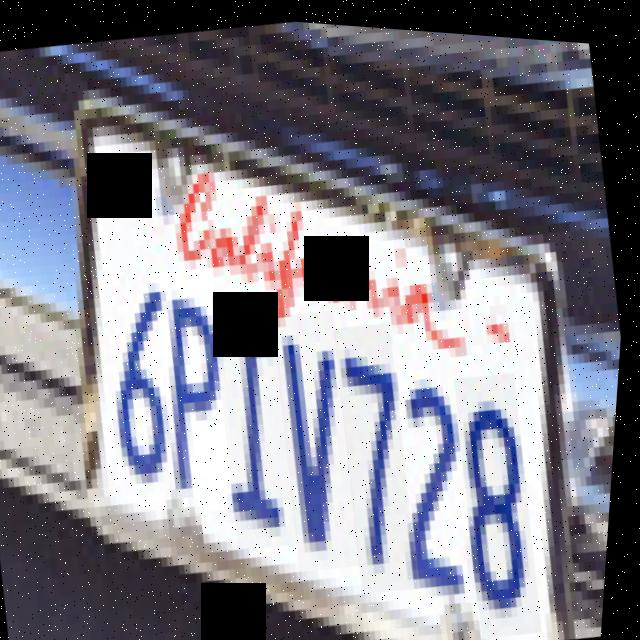6: (81, 235, 197, 491)
7: (324, 313, 439, 590)
8: (446, 360, 564, 633)
I: (202, 282, 318, 549)
P: (145, 260, 257, 514)
V: (262, 301, 381, 570)
